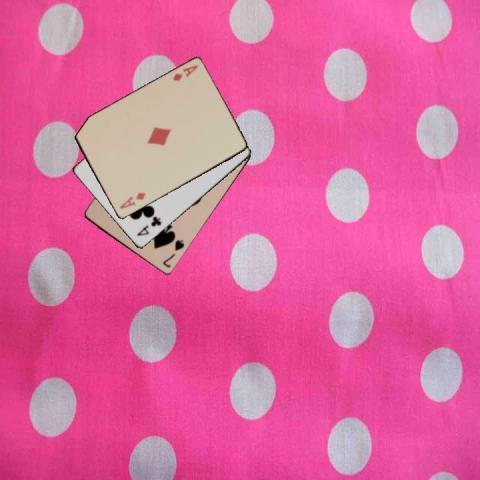4c: (133, 214, 163, 238)
7s: (159, 237, 186, 269)
Ad: (117, 189, 146, 211), (170, 62, 200, 83)
